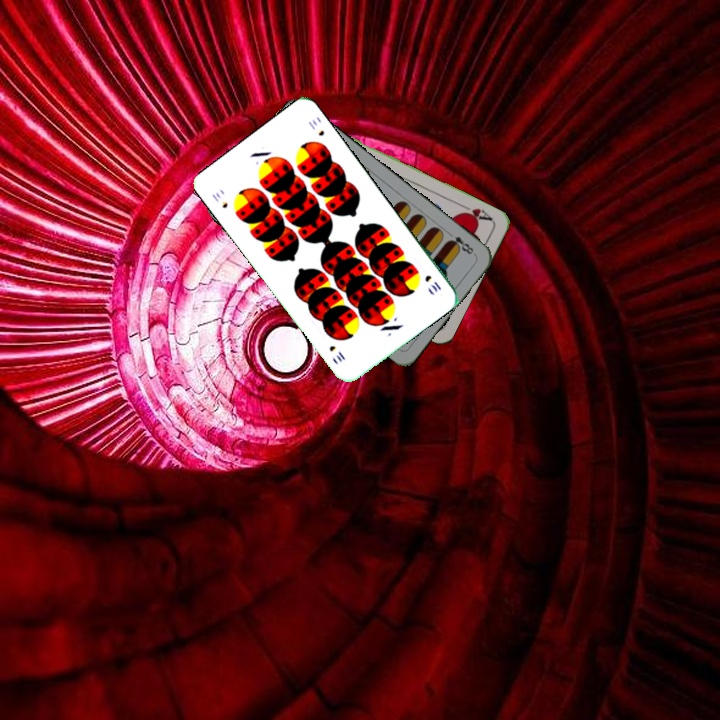E8: (444, 232, 478, 258)
HA: (456, 200, 495, 224)
S10: (421, 271, 444, 295), (208, 188, 230, 211)
